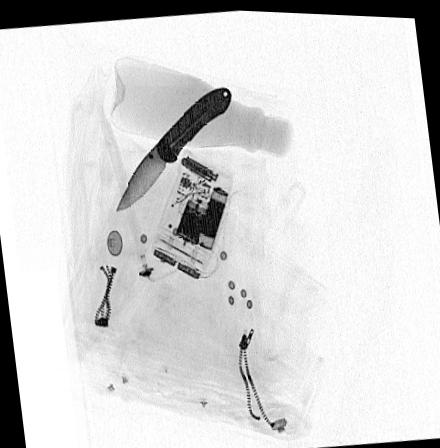Knife: (112, 83, 232, 214)
